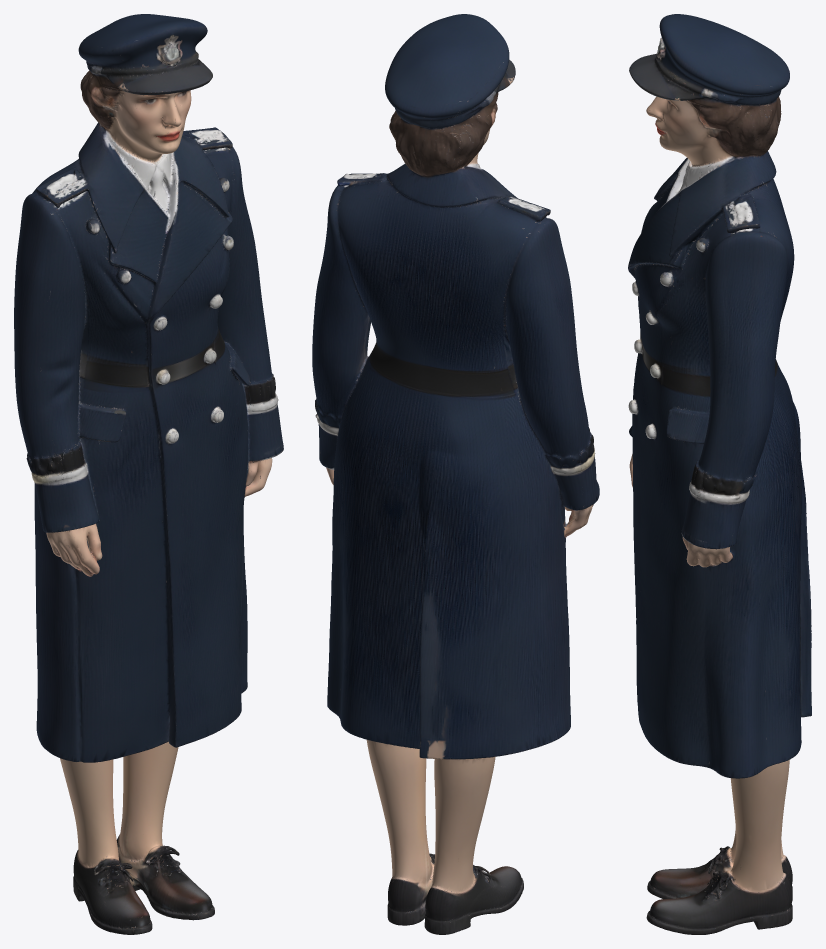
File: Meshy_AI_Sara_Jennings_0129181108_texture.fbx
The picture shows the model from 3 angles, left to right: view 1: azimuth 30°, elevation 25°; view 2: azimuth 150°, elevation 25°; view 3: azimuth 270°, elevation 25°; orthographic projection. The views are drawn at different scales.
Parts seen in each view (by area): view 1: Mesh_0; view 2: Mesh_0; view 3: Mesh_0.
Boxes of the visible parts, x1=… form: Mesh_0: x1=14, y1=14, x2=283, y2=934; Mesh_0: x1=312, y1=14, x2=599, y2=934; Mesh_0: x1=628, y1=14, x2=811, y2=934.
Size of the model in its own units: 60.84 by 200 by 37.4.
Materials: 1 (1 with a texture image).
